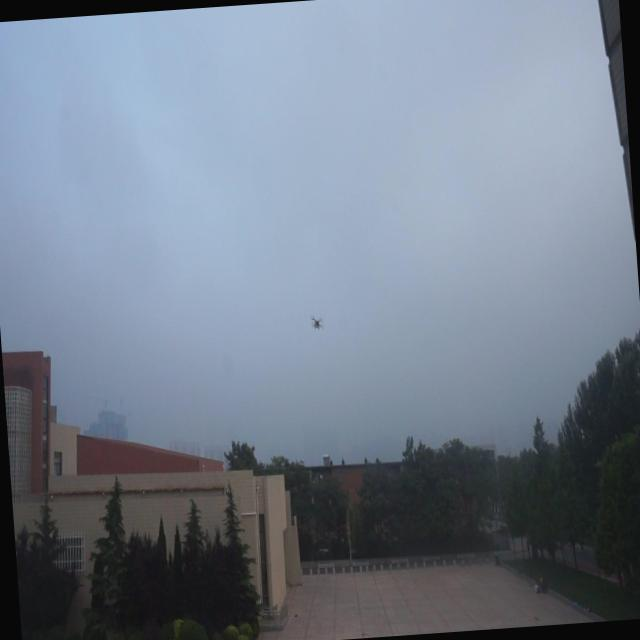drone: (308, 312, 324, 334)
